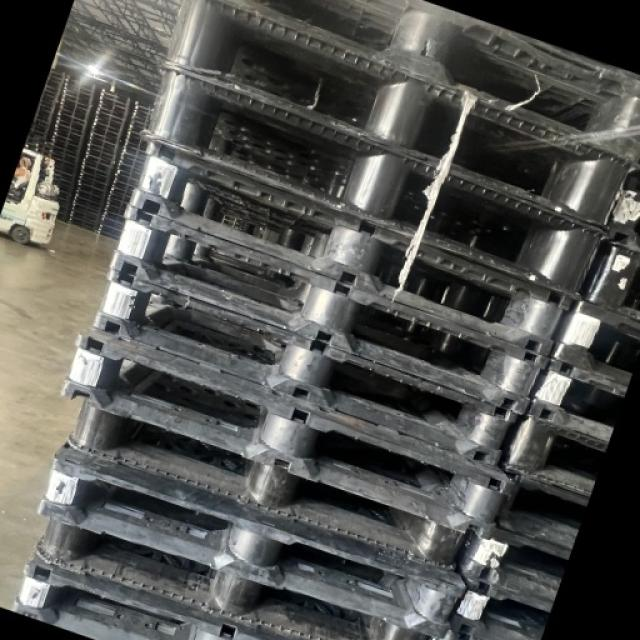igps: (127, 54, 617, 308), (154, 0, 638, 246), (125, 127, 582, 363), (54, 317, 524, 545), (103, 197, 559, 429), (87, 254, 527, 474), (30, 439, 472, 640), (187, 0, 640, 179), (63, 386, 474, 581), (6, 539, 310, 640), (488, 386, 612, 506), (447, 509, 573, 611), (516, 344, 632, 451), (489, 451, 593, 557), (541, 281, 640, 391), (443, 571, 554, 640), (575, 217, 640, 331), (590, 156, 640, 255)
